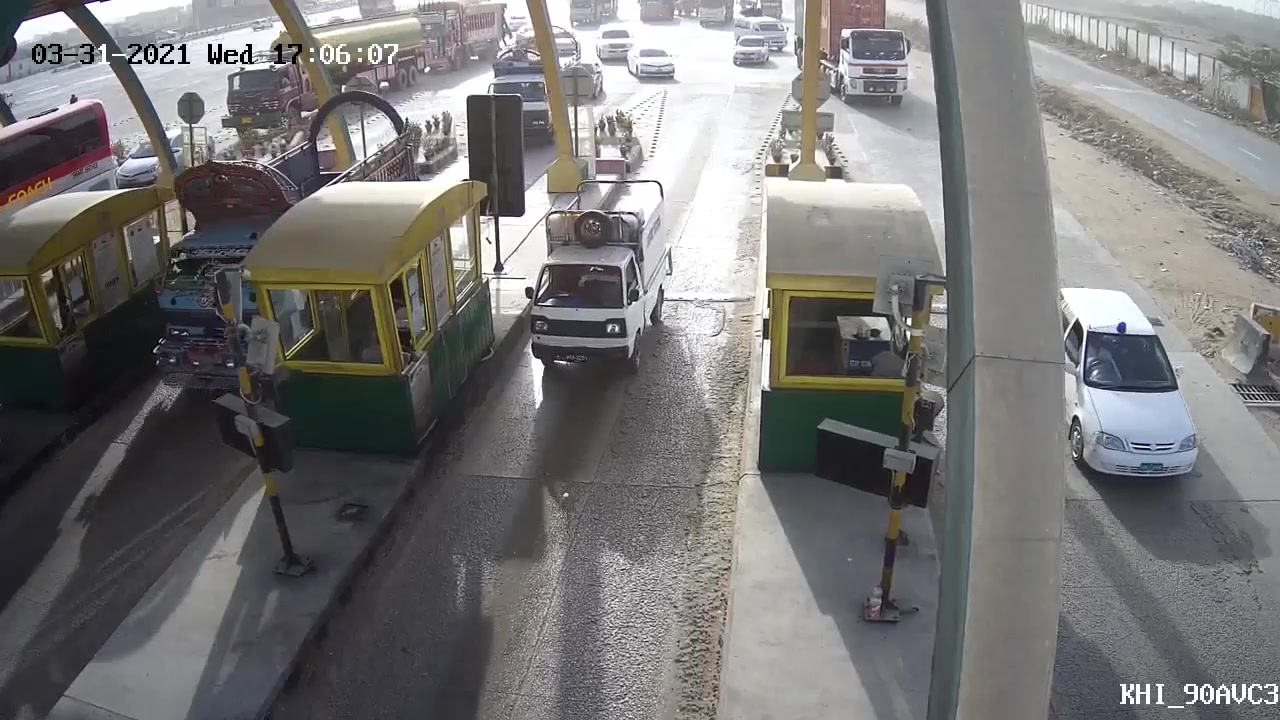F1: (530, 179, 666, 377)
